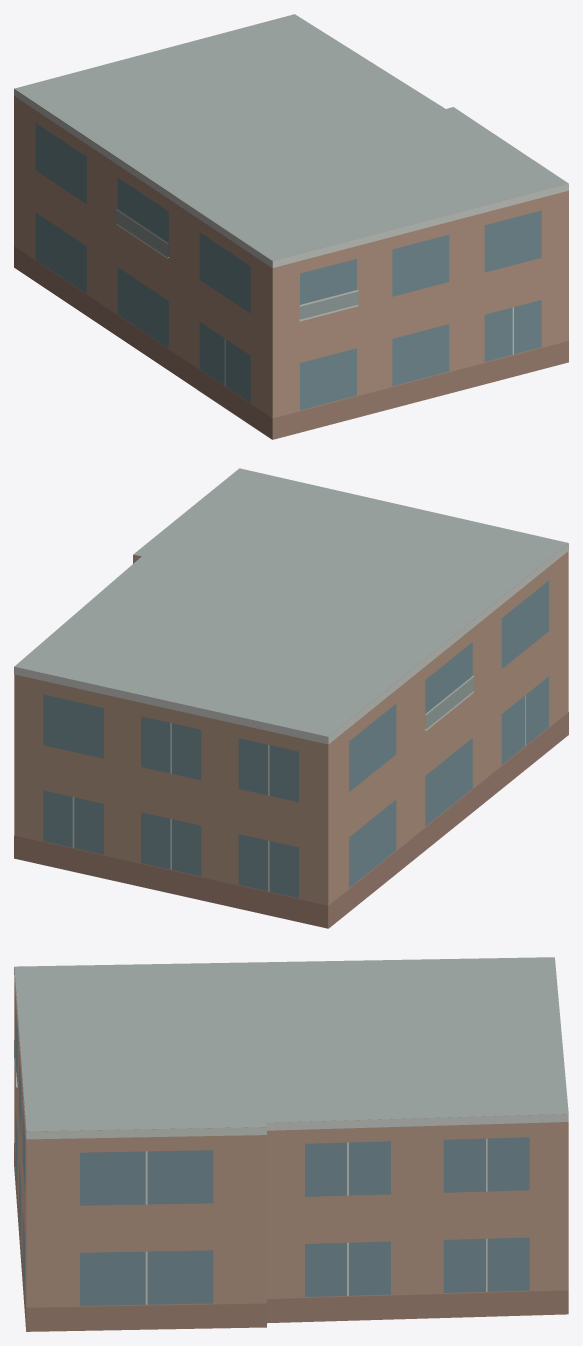
The model's file is survey-upis-32869680.glb.
The picture shows the model from 3 angles, top to bottom: view 1: azimuth 30°, elevation 25°; view 2: azimuth 150°, elevation 25°; view 3: azimuth 270°, elevation 25°; orthographic projection. The views are drawn at different scales.
Parts seen in each view (by area): view 1: survey-upis-32869680.tmp; view 2: survey-upis-32869680.tmp; view 3: survey-upis-32869680.tmp.
Boxes of the visible parts, <box> form: survey-upis-32869680.tmp: <box>14,14,568,439</box>; survey-upis-32869680.tmp: <box>14,468,568,928</box>; survey-upis-32869680.tmp: <box>14,957,568,1331</box>.
Size of the model in its own units: 11.39 by 6.1 by 15.31.
